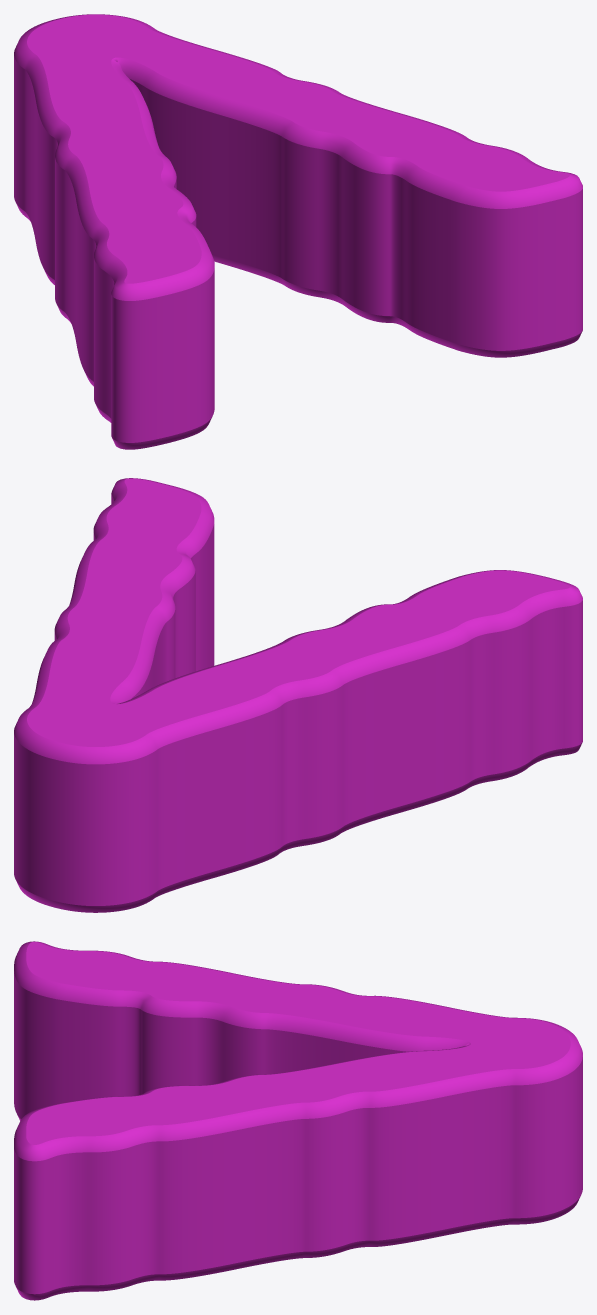
File: Blocky_Letter_v.fbx
The picture shows the model from 3 angles, top to bottom: view 1: azimuth 30°, elevation 25°; view 2: azimuth 150°, elevation 25°; view 3: azimuth 270°, elevation 25°; orthographic projection. The views are drawn at different scales.
Visible parts, largest first — view 1: BlockyLetter_v; view 2: BlockyLetter_v; view 3: BlockyLetter_v.
Part boxes in pixels (x1=…): BlockyLetter_v: x1=14, y1=14, x2=582, y2=449; BlockyLetter_v: x1=14, y1=478, x2=582, y2=912; BlockyLetter_v: x1=14, y1=941, x2=582, y2=1300.
Bounding box in the file's own units: 0.4136 × 0.14 × 0.4657.
